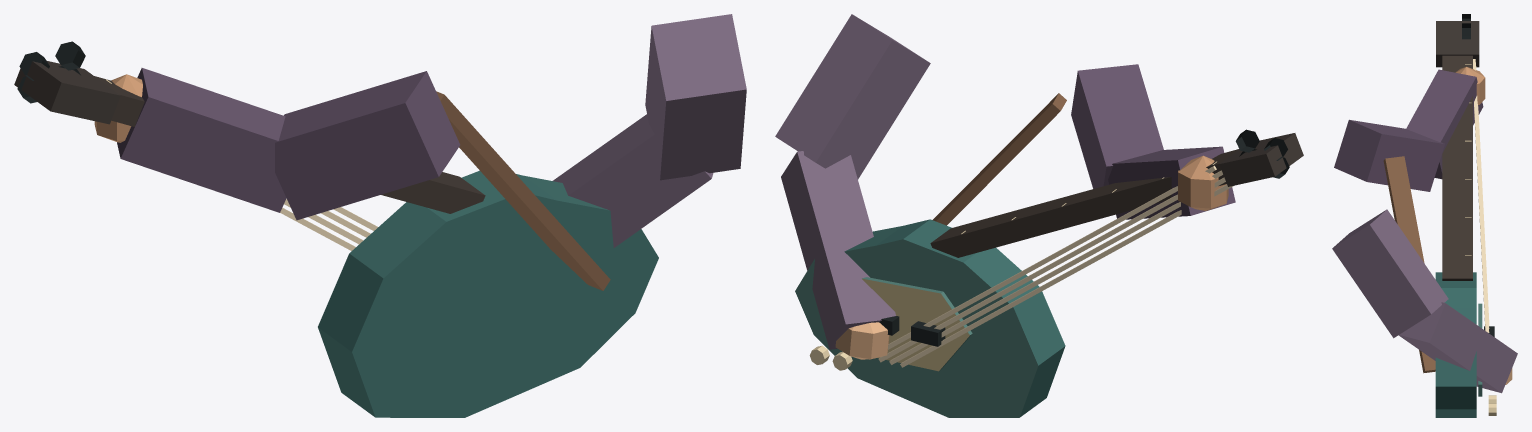
Rendered from lwf_performer_solid_bass_kit_v1.glb.
The picture shows the model from 3 angles, left to right: view 1: azimuth 30°, elevation 25°; view 2: azimuth 150°, elevation 25°; view 3: azimuth 270°, elevation 25°; orthographic projection. The views are drawn at different scales.
Parts seen in each view (by area): view 1: LWF_Bassist_SolidBass, LWF_Bass_FrettingArm, LWF_Bass_PluckingArm, LWF_Bass_LeatherStrap; view 2: LWF_Bassist_SolidBass, LWF_Bass_PluckingArm, LWF_Bass_FrettingArm, LWF_Bass_LeatherStrap; view 3: LWF_Bass_PluckingArm, LWF_Bassist_SolidBass, LWF_Bass_FrettingArm, LWF_Bass_LeatherStrap.
Boxes of the visible parts, left/top/right/bottom form: LWF_Bassist_SolidBass: left=14, top=41, right=658, bottom=417; LWF_Bass_FrettingArm: left=94, top=68, right=460, bottom=220; LWF_Bass_PluckingArm: left=553, top=14, right=746, bottom=247; LWF_Bass_LeatherStrap: left=436, top=91, right=610, bottom=290; LWF_Bassist_SolidBass: left=795, top=129, right=1303, bottom=417; LWF_Bass_PluckingArm: left=775, top=14, right=930, bottom=359; LWF_Bass_FrettingArm: left=1071, top=64, right=1235, bottom=219; LWF_Bass_LeatherStrap: left=932, top=93, right=1066, bottom=225; LWF_Bass_PluckingArm: left=1332, top=209, right=1517, bottom=393; LWF_Bassist_SolidBass: left=1435, top=14, right=1496, bottom=417; LWF_Bass_FrettingArm: left=1334, top=67, right=1485, bottom=191; LWF_Bass_LeatherStrap: left=1383, top=156, right=1435, bottom=373.
Size of the model in its own units: 1.29 by 0.8071 by 0.5135.
1 material, 1 textured.
